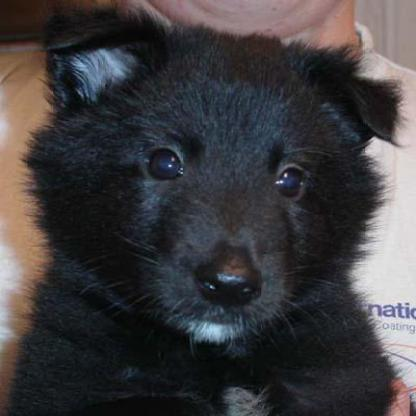groenendael: (6, 4, 400, 414)
